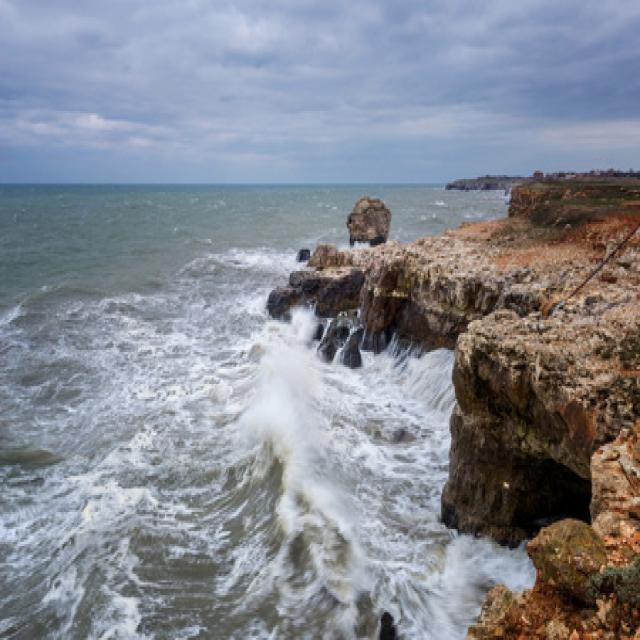reef: (297, 188, 522, 535)
